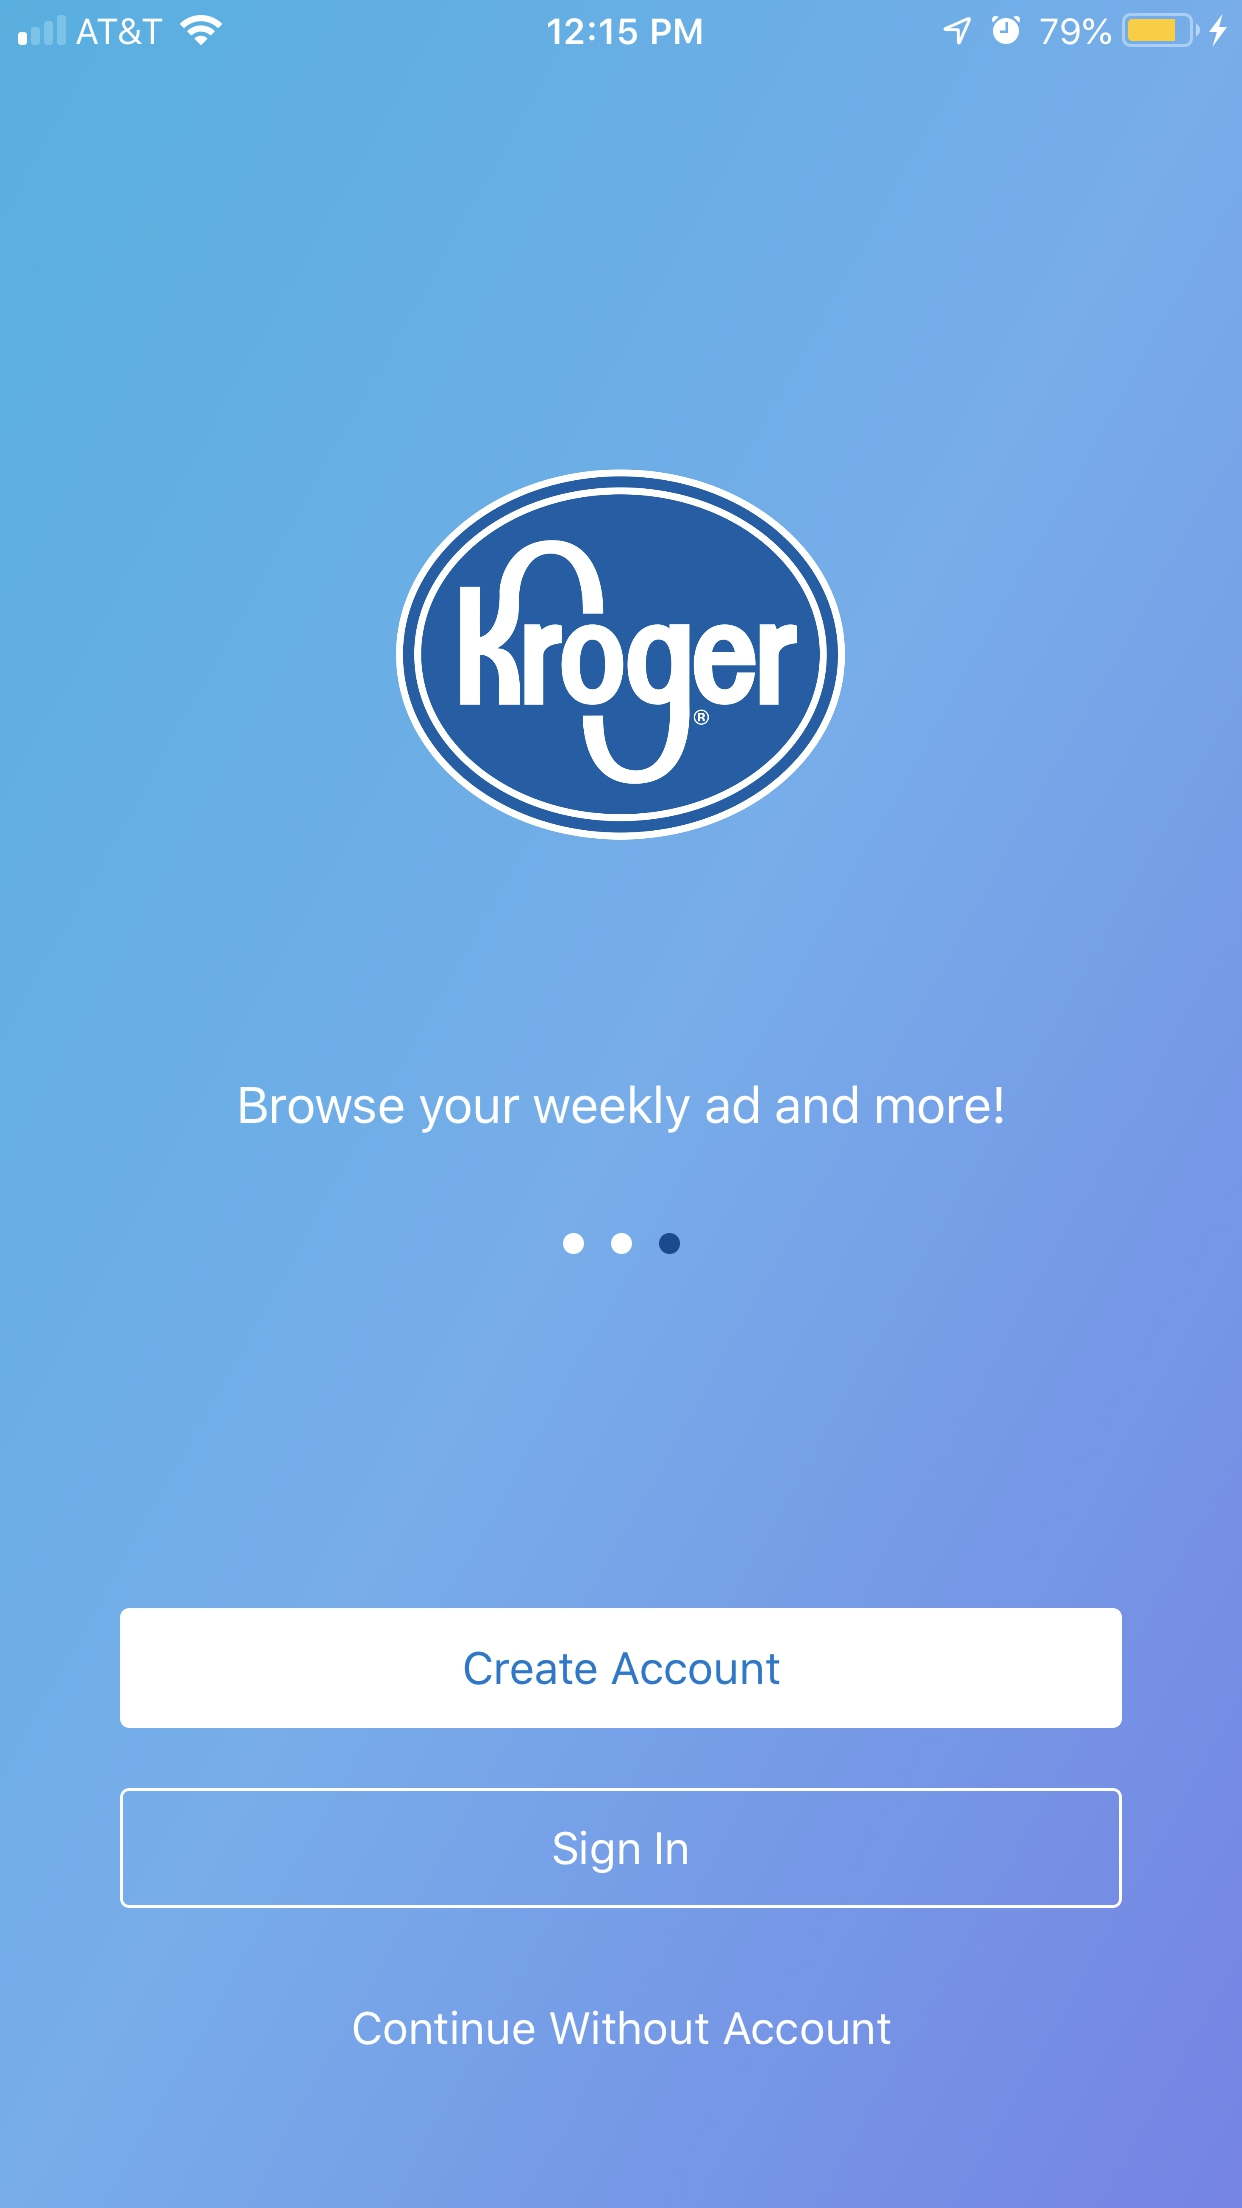Image: (394, 469, 848, 842)
PageIndicator: (563, 1231, 681, 1256)
Text: (240, 1084, 1004, 1134), (353, 2009, 892, 2046)
TextButton: (120, 1786, 1124, 1909), (120, 1607, 1124, 1729)
UpperTaskBar: (2, 2, 1242, 49)
